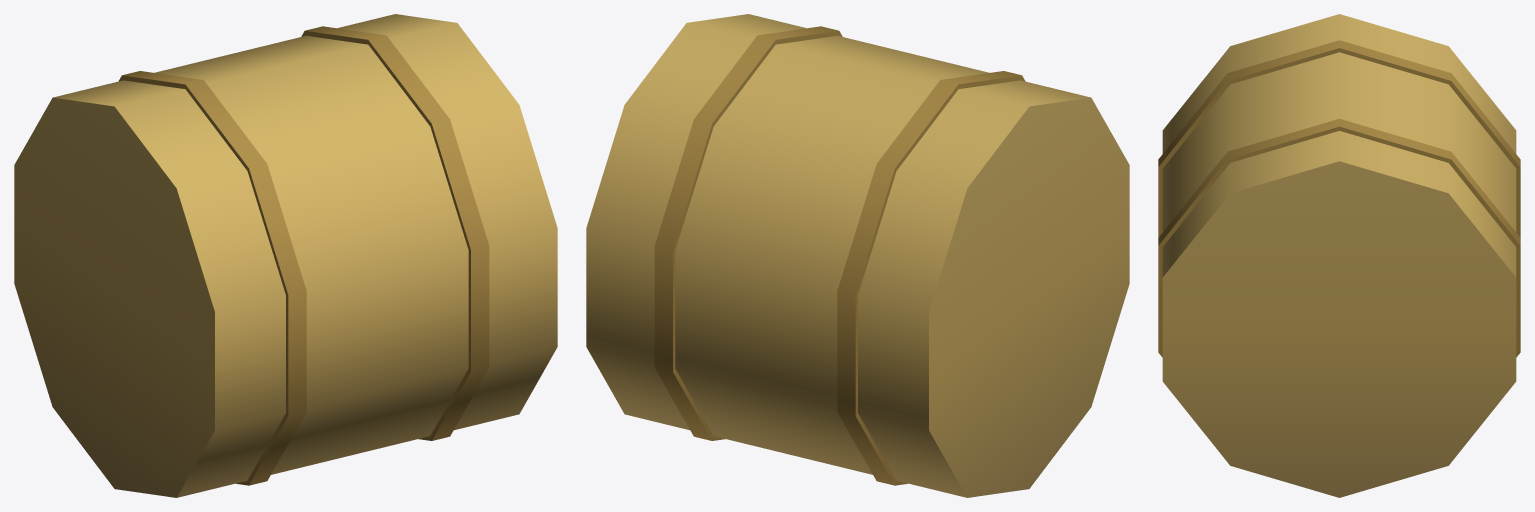
The model's file is hay_bale.glb.
3 views of the same model, side by side, from view 1: azimuth 30°, elevation 25°; view 2: azimuth 150°, elevation 25°; view 3: azimuth 270°, elevation 25° (orthographic). The views are drawn at different scales.
Parts seen in each view (by area): view 1: hay_bale; view 2: hay_bale; view 3: hay_bale.
Boxes of the visible parts, bbox=[...] form: hay_bale: bbox=[14, 14, 557, 497]; hay_bale: bbox=[586, 14, 1129, 497]; hay_bale: bbox=[1158, 14, 1520, 497].
Bounding box in the file's own units: 3 × 3.28 × 3.12.
Materials: 1 (1 with a texture image).
